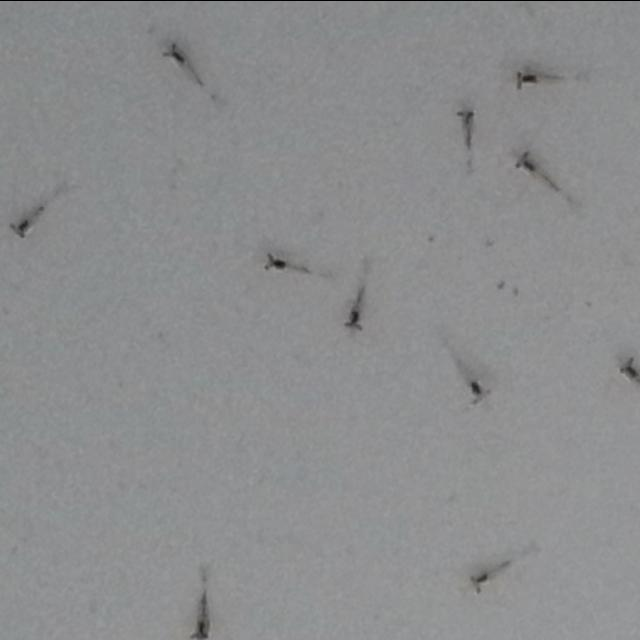shrimp-seed: (510, 147, 548, 179), (190, 594, 217, 638), (11, 206, 44, 238), (158, 38, 191, 69), (465, 373, 493, 408), (344, 294, 369, 332), (458, 106, 480, 142), (260, 248, 290, 274), (512, 64, 538, 92), (616, 353, 639, 381), (469, 568, 493, 594)
